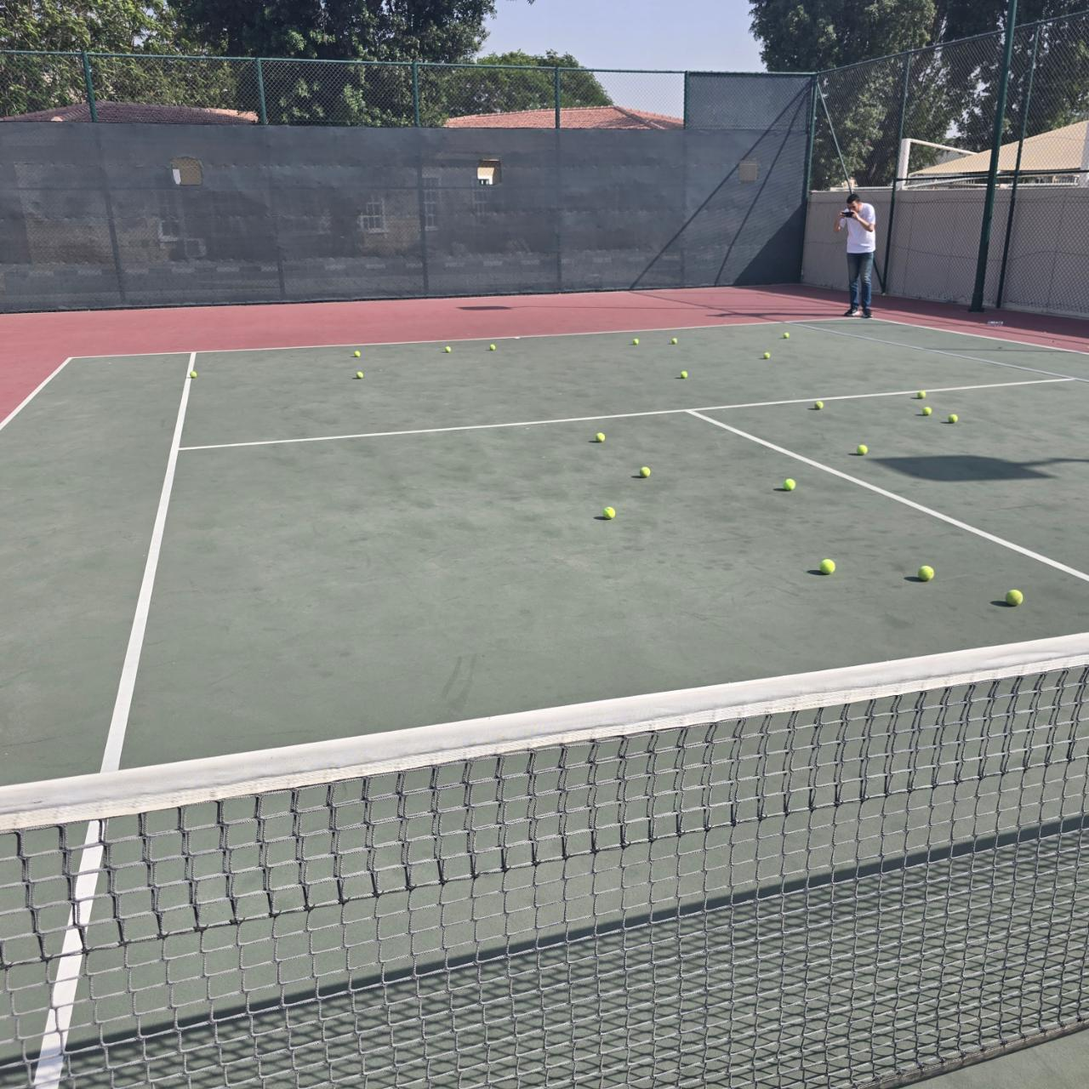tennis-ball: (1004, 587, 1023, 606), (916, 563, 934, 580), (819, 558, 835, 574), (603, 506, 615, 520), (639, 466, 651, 477), (783, 479, 796, 489), (857, 444, 868, 455), (595, 432, 606, 442), (814, 401, 824, 410), (922, 407, 932, 416), (948, 414, 958, 423), (917, 391, 926, 399), (763, 352, 771, 359), (680, 371, 688, 378), (356, 372, 364, 379), (190, 371, 197, 379), (783, 332, 790, 339), (633, 338, 639, 345), (354, 351, 361, 357), (672, 338, 678, 344), (490, 344, 496, 350), (446, 346, 451, 353)
